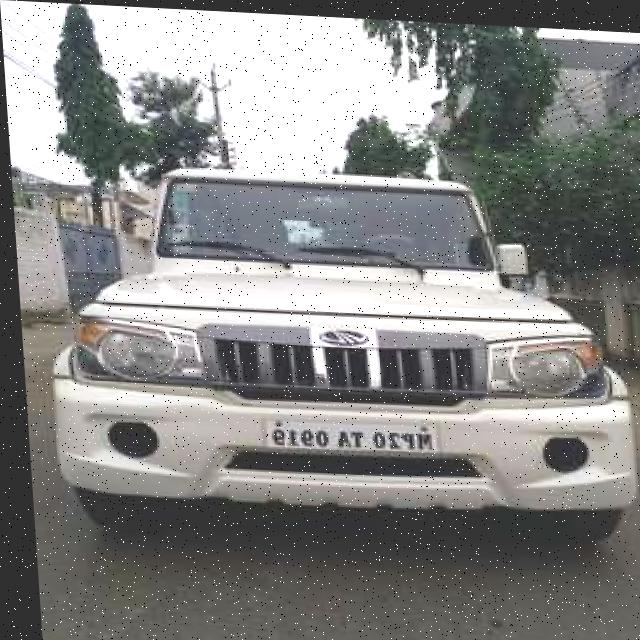plate: (256, 413, 435, 454)
